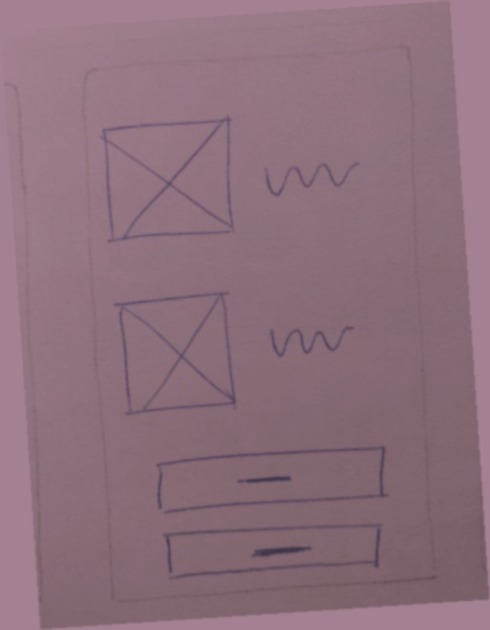button: (143, 436, 398, 523), (156, 513, 394, 586)
image: (93, 106, 246, 254), (103, 283, 245, 421)
text: (254, 148, 364, 205), (263, 313, 364, 365)
